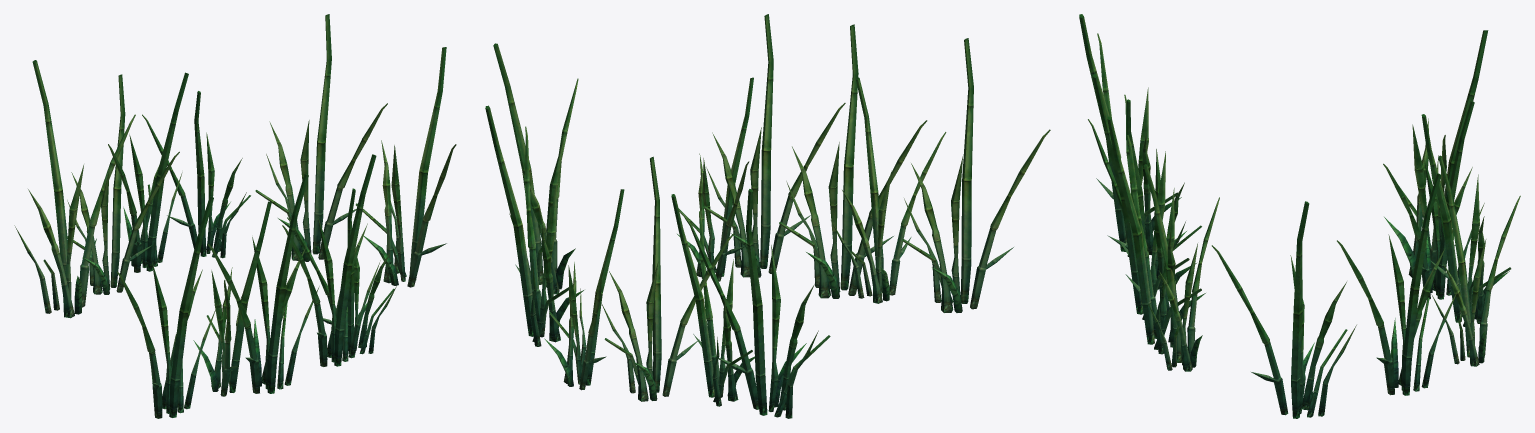
File: Area_05_3.fbx
3 views of the same model, side by side, from view 1: azimuth 30°, elevation 25°; view 2: azimuth 150°, elevation 25°; view 3: azimuth 270°, elevation 25° (orthographic). The views are drawn at different scales.
Visible parts, largest first — view 1: Area_05_3; view 2: Area_05_3; view 3: Area_05_3.
Part boxes in pixels (bbox=[...]): Area_05_3: bbox=[14, 14, 456, 418]; Area_05_3: bbox=[485, 14, 1050, 418]; Area_05_3: bbox=[1079, 14, 1520, 418].
Bounding box in the file's own units: 6726 × 3574 × 5659.
